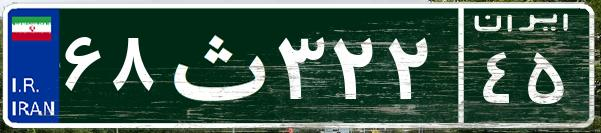2: (385, 28, 445, 110), (330, 28, 385, 110)
3: (273, 28, 330, 110)
4: (475, 38, 525, 113)
5: (525, 38, 570, 115)
6: (57, 26, 110, 107)
8: (110, 28, 158, 105)
ث: (158, 15, 273, 115)
